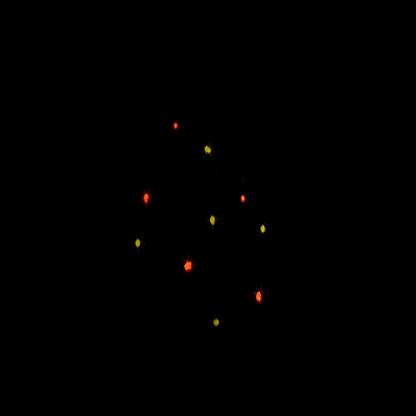PE: (128, 227, 150, 261), (209, 307, 226, 339), (201, 136, 217, 165), (207, 210, 222, 234), (258, 220, 271, 243)
PVC: (135, 181, 158, 216), (177, 252, 200, 285), (250, 281, 270, 311), (235, 185, 254, 215), (168, 111, 187, 141)
